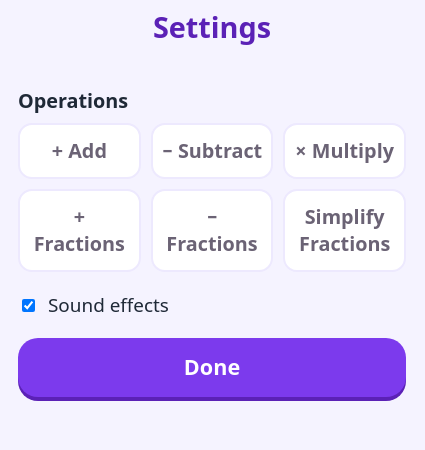
Test case: SettingsPanel › refuses to close with no operation selected and explains why
What coordinates should you click on to do the following:
click the button "Done"
I would click on:
 (212, 368)
Its box is [18,338,406,397].
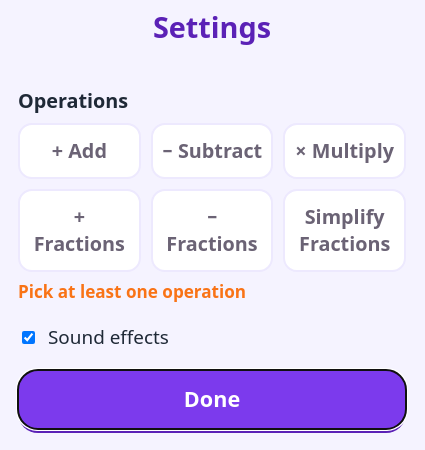
expect the text "Pick at least one operation" is shown: met, box [18,280,246,303]
